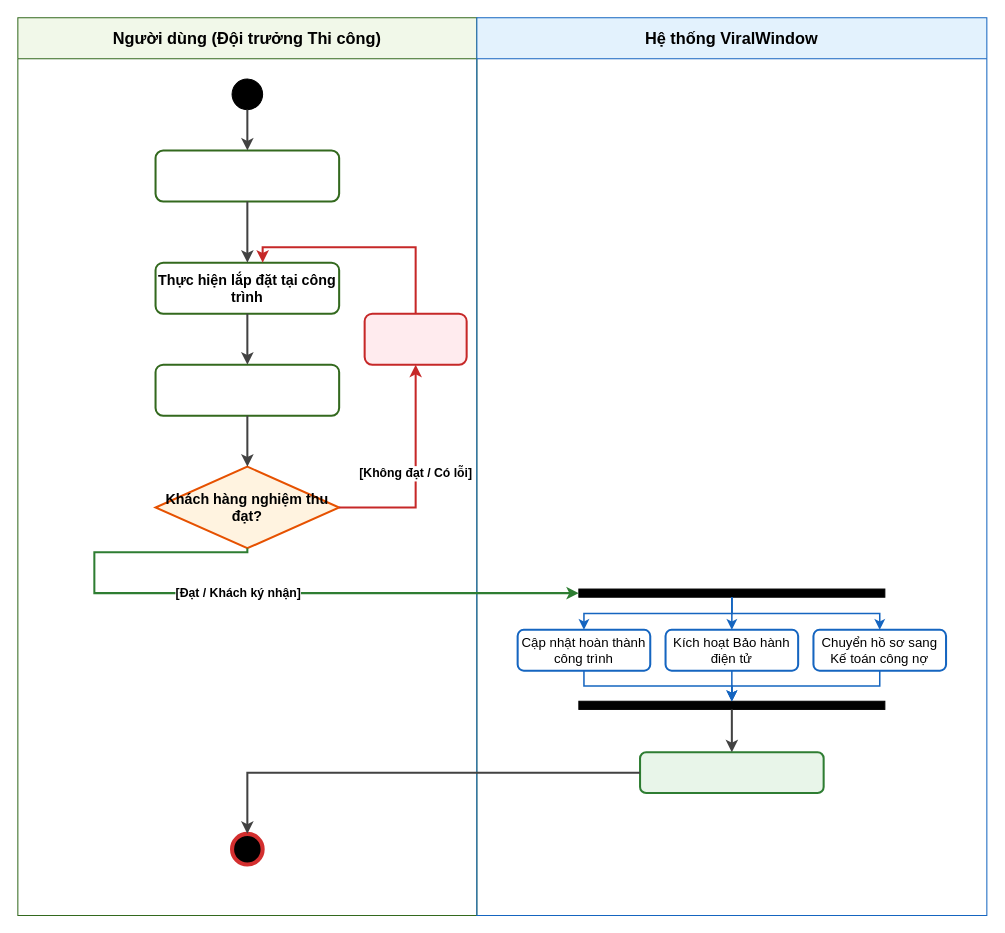
This 1005x933 diagram has some shape labels left out. Here are the shapes that lost their labels. From the top down, the centre of each, then its label:
At point 247,175: "Tiếp nhận Hồ sơ & Sản phẩm xuất xưởng".
At point 415,338: "Khắc phục / Sửa chữa lỗi lắp đặt".
At point 247,389: "Nghiệm thu với Khách hàng".
At point 731,772: "Đóng dự án thành công".
